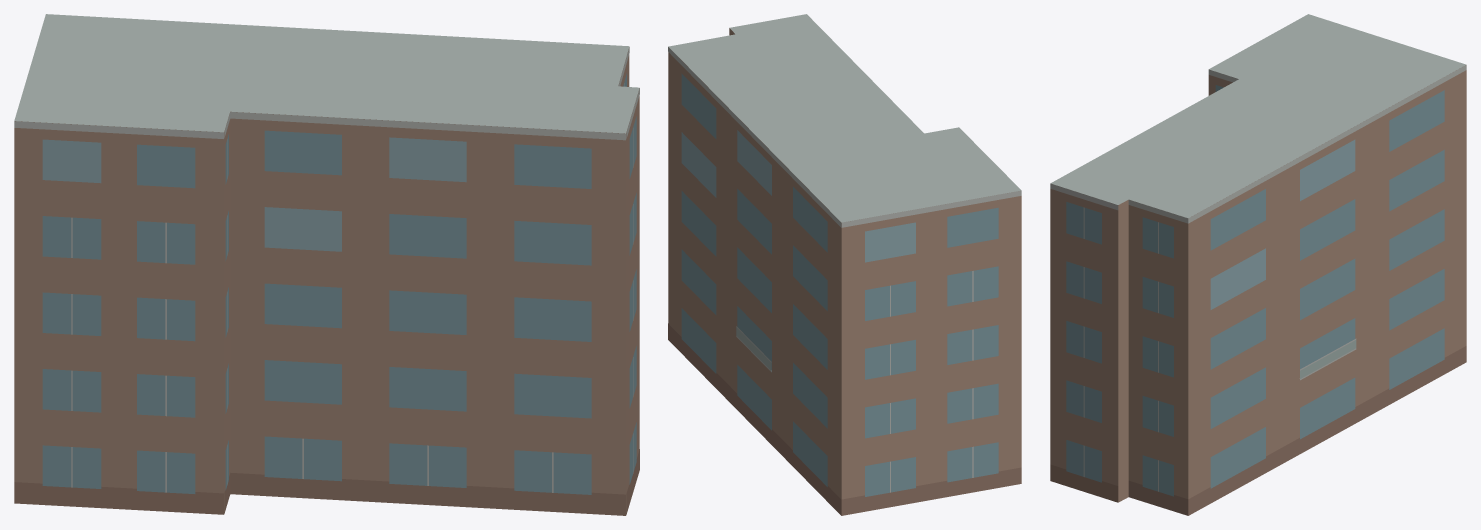
File: survey-upis-32628288.glb
3 renders of one model, left to right at view 1: azimuth 30°, elevation 25°; view 2: azimuth 150°, elevation 25°; view 3: azimuth 270°, elevation 25°, orthographic. The views are drawn at different scales.
Visible parts, largest first — view 1: survey-upis-32628288.tmp; view 2: survey-upis-32628288.tmp; view 3: survey-upis-32628288.tmp.
Part boxes in pixels (x1,y1,x2,y2): survey-upis-32628288.tmp: (14, 14, 639, 515); survey-upis-32628288.tmp: (668, 14, 1021, 515); survey-upis-32628288.tmp: (1050, 14, 1466, 515).
Size of the model in its own units: 20.19 by 13.7 by 17.38.
